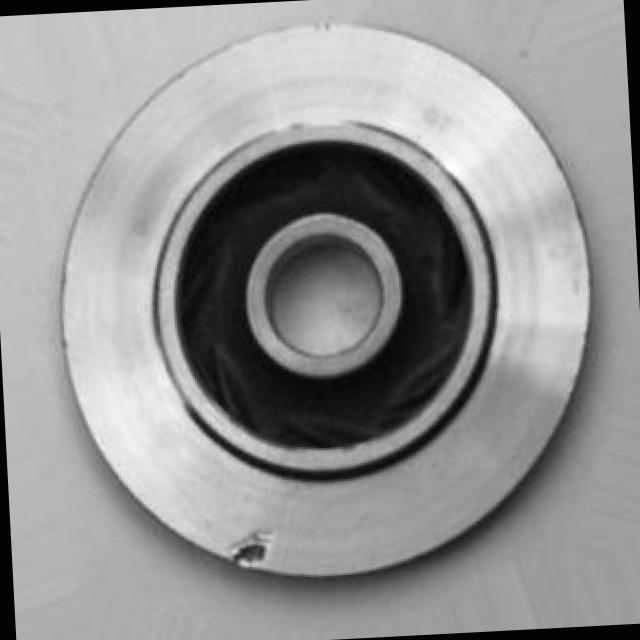Defect: (222, 522, 292, 582)
